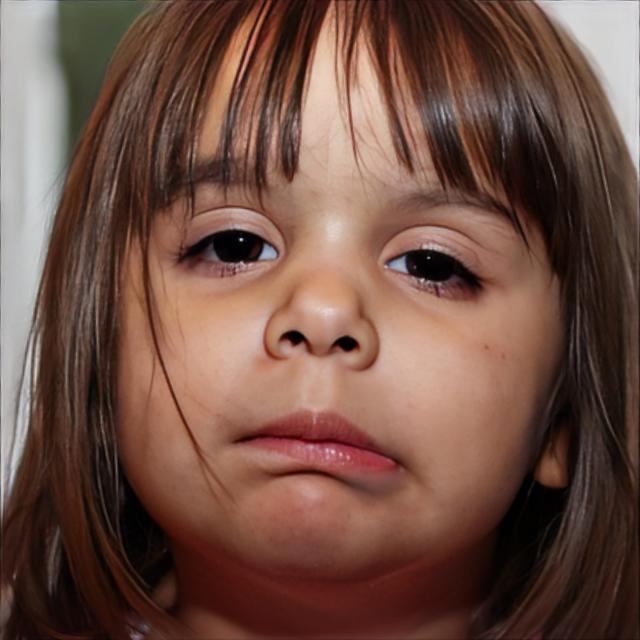sad: (131, 42, 563, 574)
